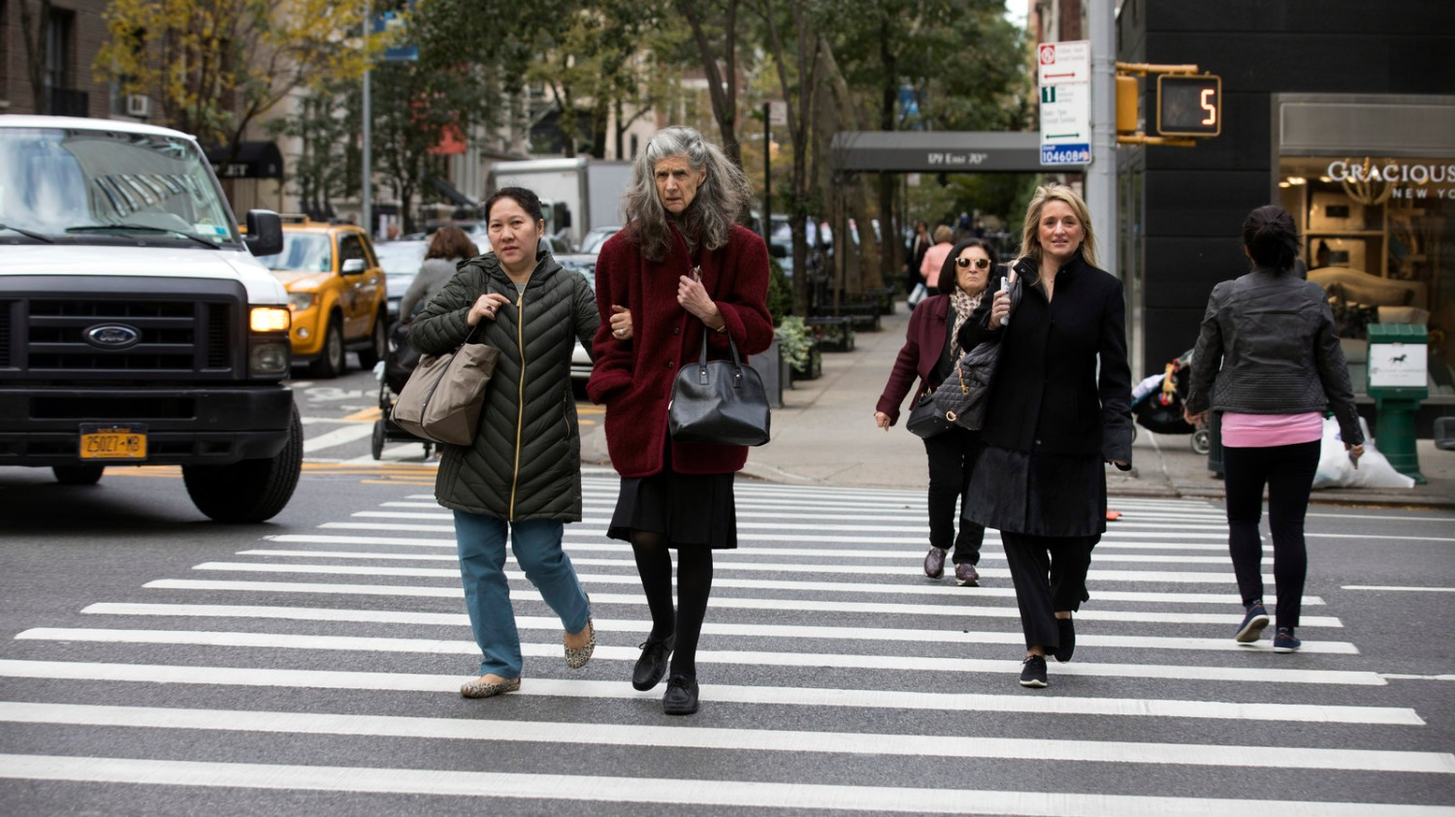car: (0, 115, 302, 521), (257, 217, 426, 377)
crosswalk: (0, 464, 1454, 816)
pedestrian_stop: (1155, 74, 1199, 134)
person: (588, 129, 772, 713), (410, 188, 599, 697), (956, 186, 1132, 687), (1184, 205, 1363, 652), (875, 238, 1003, 585)
